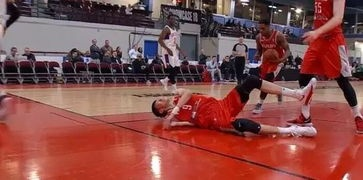falling: (144, 63, 323, 140)
